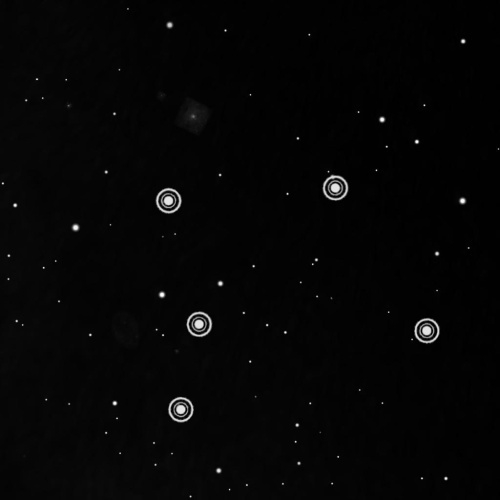libra: (146, 168, 445, 428)
